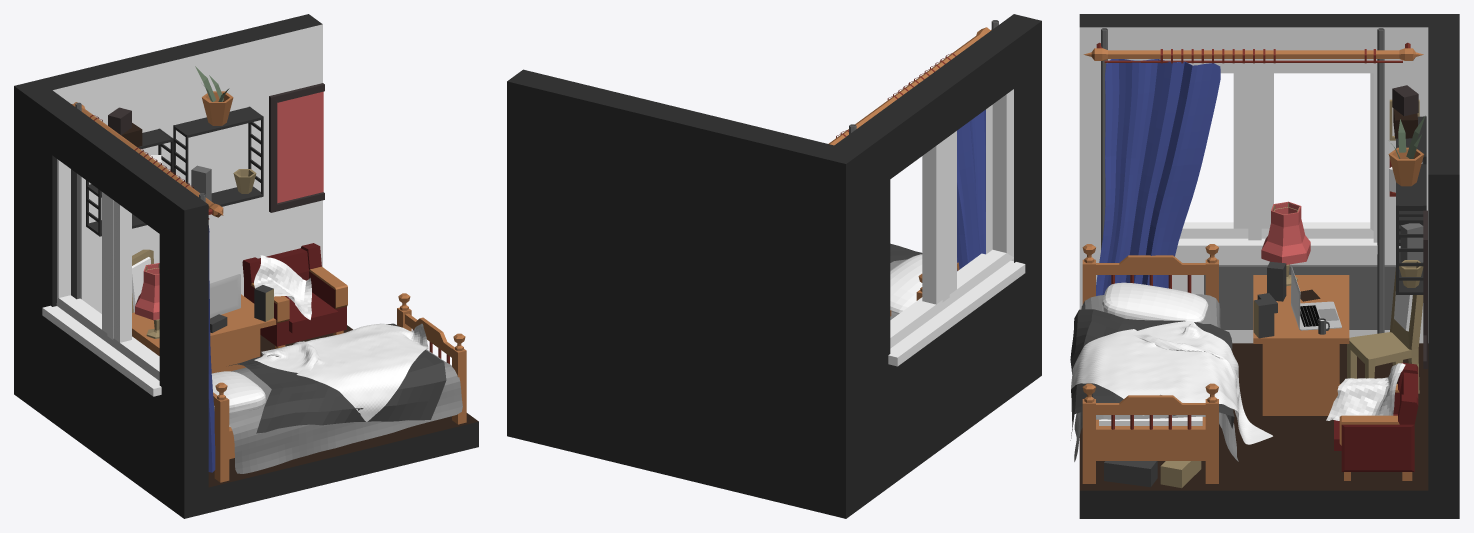
The model's file is isometric_room_fin_2.glb.
3 views of the same model, side by side, from view 1: azimuth 30°, elevation 25°; view 2: azimuth 150°, elevation 25°; view 3: azimuth 270°, elevation 25° (orthographic). The views are drawn at different scales.
Visible parts, largest first — view 1: Cube_2, Cube_0, Plane.007_0, Cube.023_0, Cube.011_0, Cube.007_0, Cube.037_1, Cube.021_0, Cube.001_0, Cube_1, Cube.010_0, Cube.037_0 (+17 smaller); view 2: Cube_2, Cube.011_0, Cylinder.006_0, Cube.010_0, Cube.012_0, Cube.008_0, Cube_0, Cylinder.004_0; view 3: Cube_2, Cube_0, Cylinder.006_0, Cube_1, Plane.007_0, Cube.001_0, Cube.011_0, Cube.016_0, Cube.021_0, Cube.003_0, Cube.009_0, Cube.023_0 (+30 smaller).
Boxes of the visible parts, left/top/right/bottom form: Cube_2: left=14, top=14, right=478, bottom=518; Cube_0: left=53, top=24, right=322, bottom=313; Plane.007_0: left=254, top=323, right=428, bottom=421; Cube.023_0: left=229, top=323, right=446, bottom=433; Cube.011_0: left=56, top=159, right=159, bottom=380; Cube.007_0: left=229, top=349, right=462, bottom=473; Cube.037_1: left=277, top=91, right=323, bottom=203; Cube.021_0: left=242, top=243, right=346, bottom=346; Cube.001_0: left=132, top=294, right=276, bottom=373; Cube_1: left=208, top=325, right=478, bottom=487; Cube.010_0: left=42, top=298, right=161, bottom=396; Cube.037_0: left=269, top=83, right=324, bottom=212; Cube_2: left=507, top=14, right=1041, bottom=518; Cube.011_0: left=890, top=89, right=1013, bottom=348; Cylinder.006_0: left=957, top=109, right=985, bottom=271; Cube.010_0: left=888, top=253, right=1025, bottom=366; Cube.012_0: left=890, top=254, right=922, bottom=313; Cube.008_0: left=942, top=136, right=949, bottom=302; Cube_0: left=986, top=105, right=1013, bottom=261; Cylinder.004_0: left=828, top=27, right=991, bottom=145; Cube_2: left=1079, top=14, right=1459, bottom=518; Cube_0: left=1079, top=27, right=1428, bottom=343; Cylinder.006_0: left=1096, top=59, right=1220, bottom=295; Cube_1: left=1079, top=343, right=1428, bottom=490; Plane.007_0: left=1071, top=321, right=1272, bottom=444; Cube.001_0: left=1253, top=275, right=1349, bottom=415; Cube.011_0: left=1179, top=73, right=1373, bottom=238; Cube.016_0: left=1204, top=265, right=1395, bottom=329; Cube.021_0: left=1334, top=362, right=1418, bottom=471; Cube.003_0: left=1096, top=417, right=1205, bottom=460; Cube.009_0: left=1096, top=255, right=1205, bottom=414; Cube.023_0: left=1070, top=309, right=1234, bottom=440.
Bounding box in the file's own units: 2.24 × 2.18 × 2.23.
